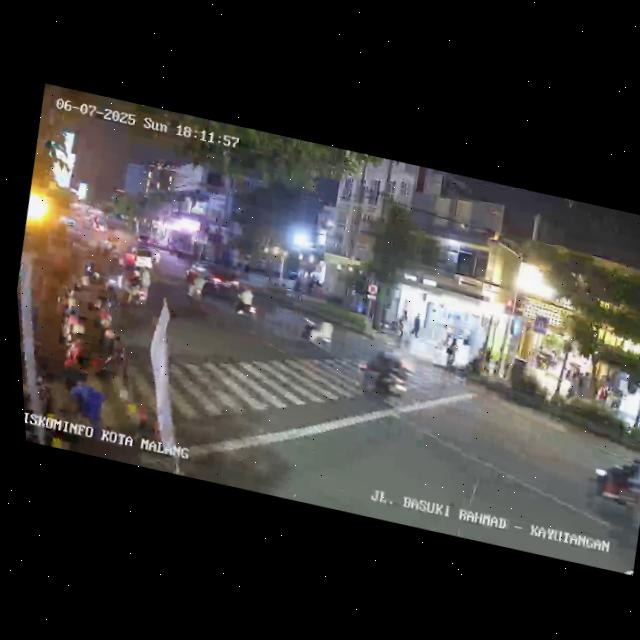car: (184, 264, 253, 316), (120, 242, 159, 275)
motorcycle: (583, 442, 640, 525), (349, 342, 418, 410), (296, 312, 338, 355), (230, 284, 264, 325), (124, 266, 154, 312), (181, 270, 209, 307), (97, 234, 119, 259)
person: (442, 336, 461, 371), (564, 369, 582, 402), (393, 310, 411, 341), (575, 368, 592, 399), (408, 313, 424, 341)
